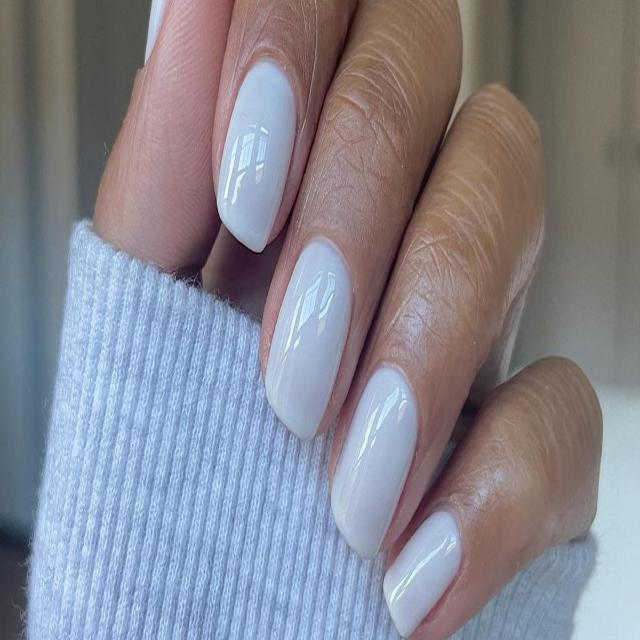Nail: (265, 238, 352, 438), (331, 365, 419, 557), (216, 60, 296, 251), (384, 511, 460, 636), (148, 0, 166, 59)
